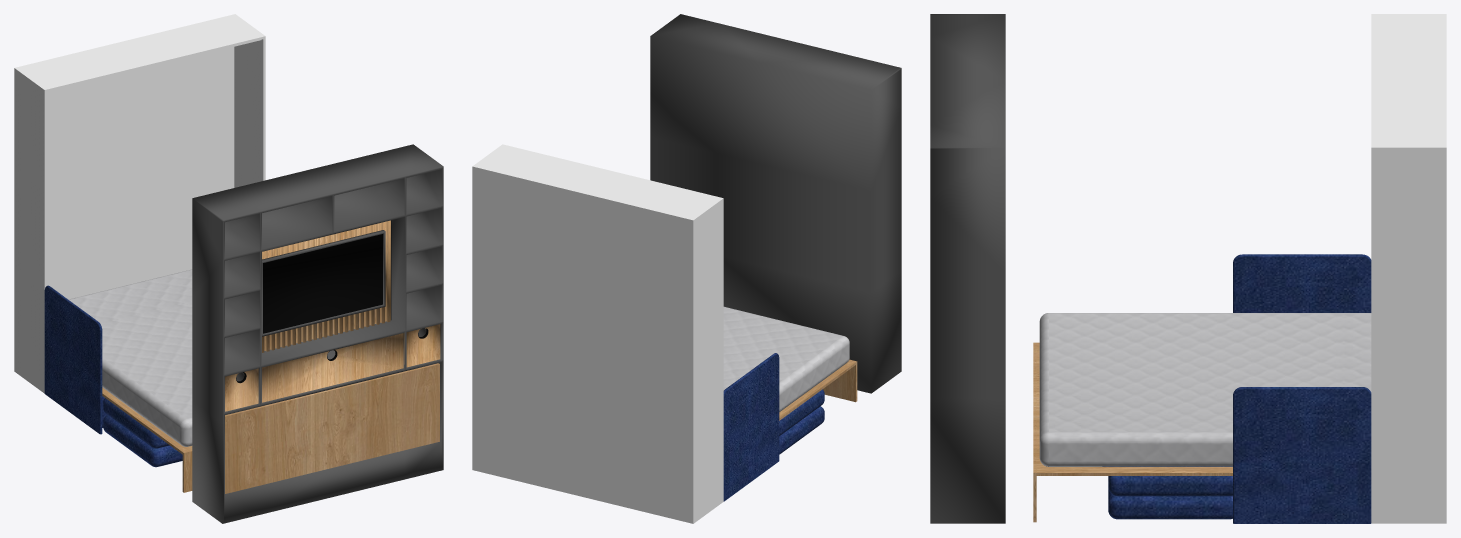
File: bureau_bedm.gltf
3 views of the same model, side by side, from view 1: azimuth 30°, elevation 25°; view 2: azimuth 150°, elevation 25°; view 3: azimuth 270°, elevation 25° (orthographic). The views are drawn at different scales.
Parts seen in each view (by area): view 1: bureau_bedm; view 2: bureau_bedm; view 3: bureau_bedm.
Boxes of the visible parts, x1=… form: bureau_bedm: x1=14, y1=14, x2=443, y2=523; bureau_bedm: x1=472, y1=14, x2=901, y2=523; bureau_bedm: x1=930, y1=14, x2=1446, y2=523.
Size of the model in its own units: 1690 by 2211 by 2750.
Materials: 8 (5 with a texture image).
